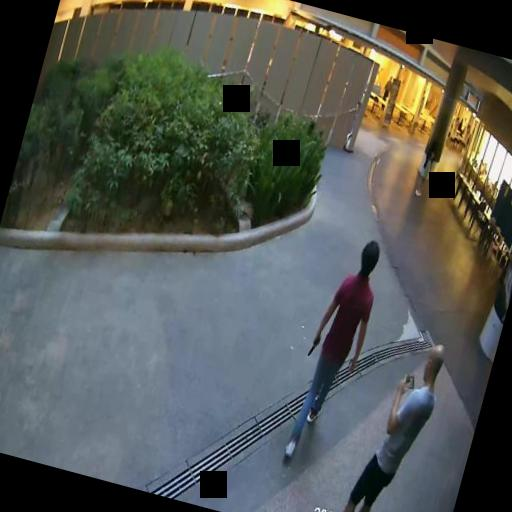Handgun: (305, 332, 320, 356)
